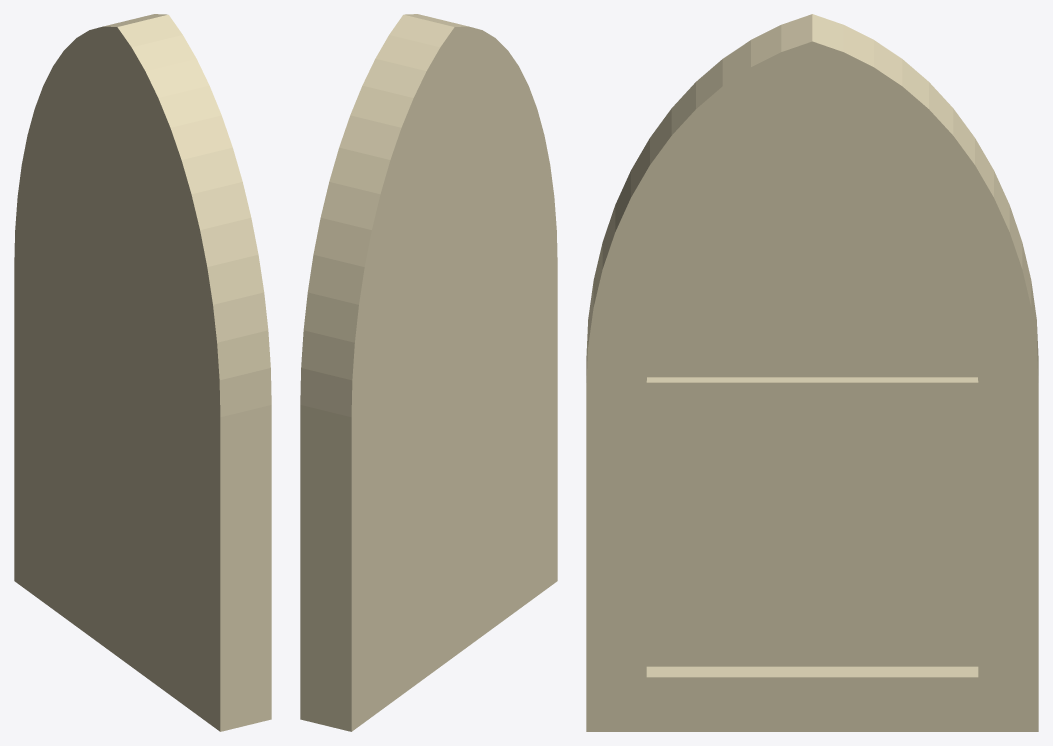
File: door.glb
3 views of the same model, side by side, from view 1: azimuth 30°, elevation 25°; view 2: azimuth 150°, elevation 25°; view 3: azimuth 270°, elevation 25° (orthographic). The views are drawn at different scales.
Visible parts, largest first — view 1: door; view 2: door; view 3: door.
Boxes of the visible parts, x1=… form: door: x1=14, y1=14, x2=271, y2=731; door: x1=300, y1=14, x2=557, y2=731; door: x1=586, y1=14, x2=1038, y2=731.
Bounding box in the file's own units: 0.516 × 6.05 × 3.59.
